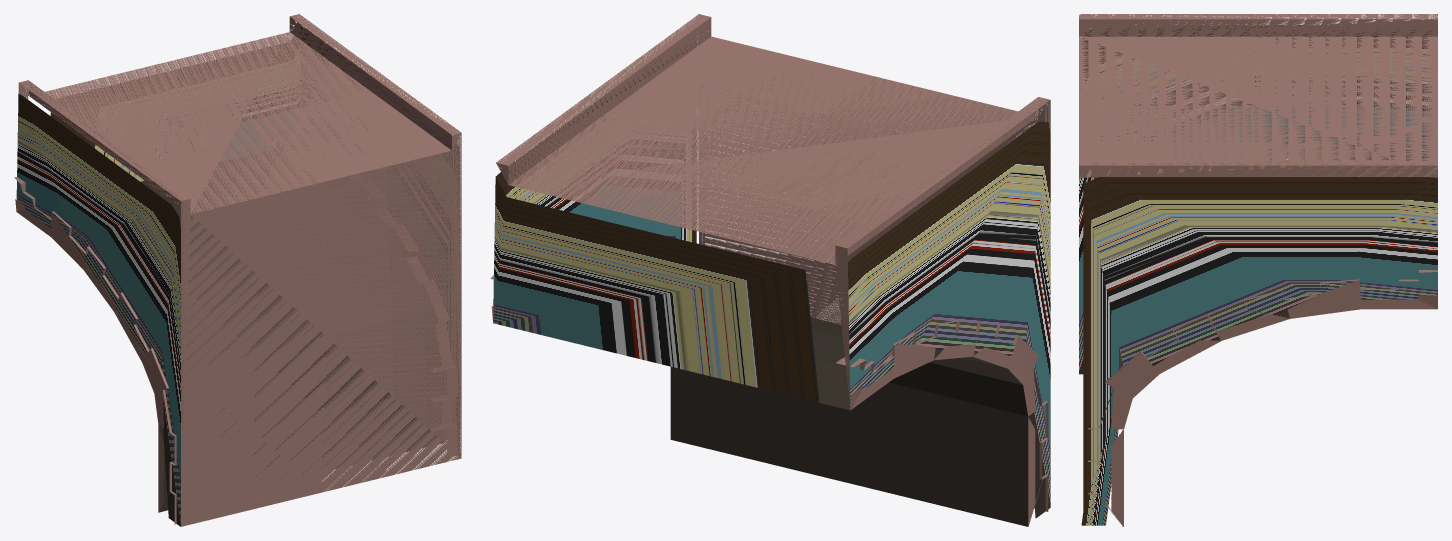
File: SW_ENV_WalledStraight_DoubleTrack_HalfArc_Collision.fbx
3 views of the same model, side by side, from view 1: azimuth 30°, elevation 25°; view 2: azimuth 150°, elevation 25°; view 3: azimuth 270°, elevation 25° (orthographic). The views are drawn at different scales.
Visible parts, largest first — view 1: SW_ENV_WalledStraight_DoubleTrack_HalfArc_Collision; view 2: SW_ENV_WalledStraight_DoubleTrack_HalfArc_Collision; view 3: SW_ENV_WalledStraight_DoubleTrack_HalfArc_Collision.
Part boxes in pixels (<box>): SW_ENV_WalledStraight_DoubleTrack_HalfArc_Collision: <box>14,14,461,526</box>; SW_ENV_WalledStraight_DoubleTrack_HalfArc_Collision: <box>490,14,1050,526</box>; SW_ENV_WalledStraight_DoubleTrack_HalfArc_Collision: <box>1079,14,1437,526</box>.
Size of the model in its own units: 10.48 by 11.08 by 10.
